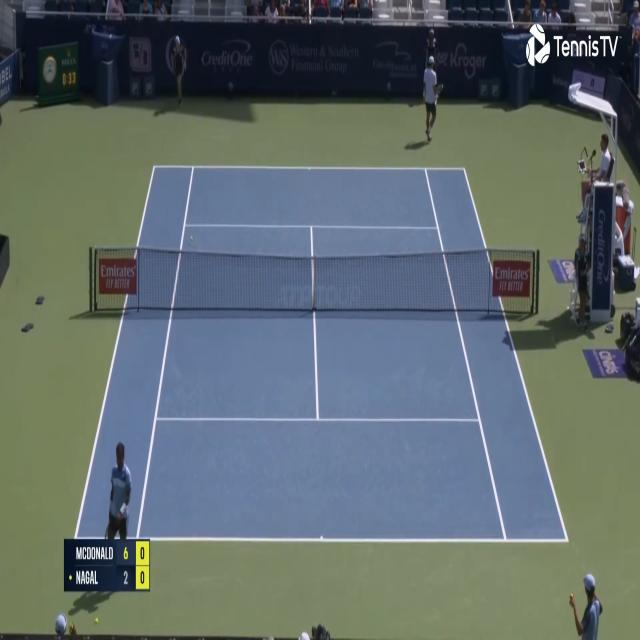tennis-player: (100, 438, 134, 560), (420, 54, 444, 143)
